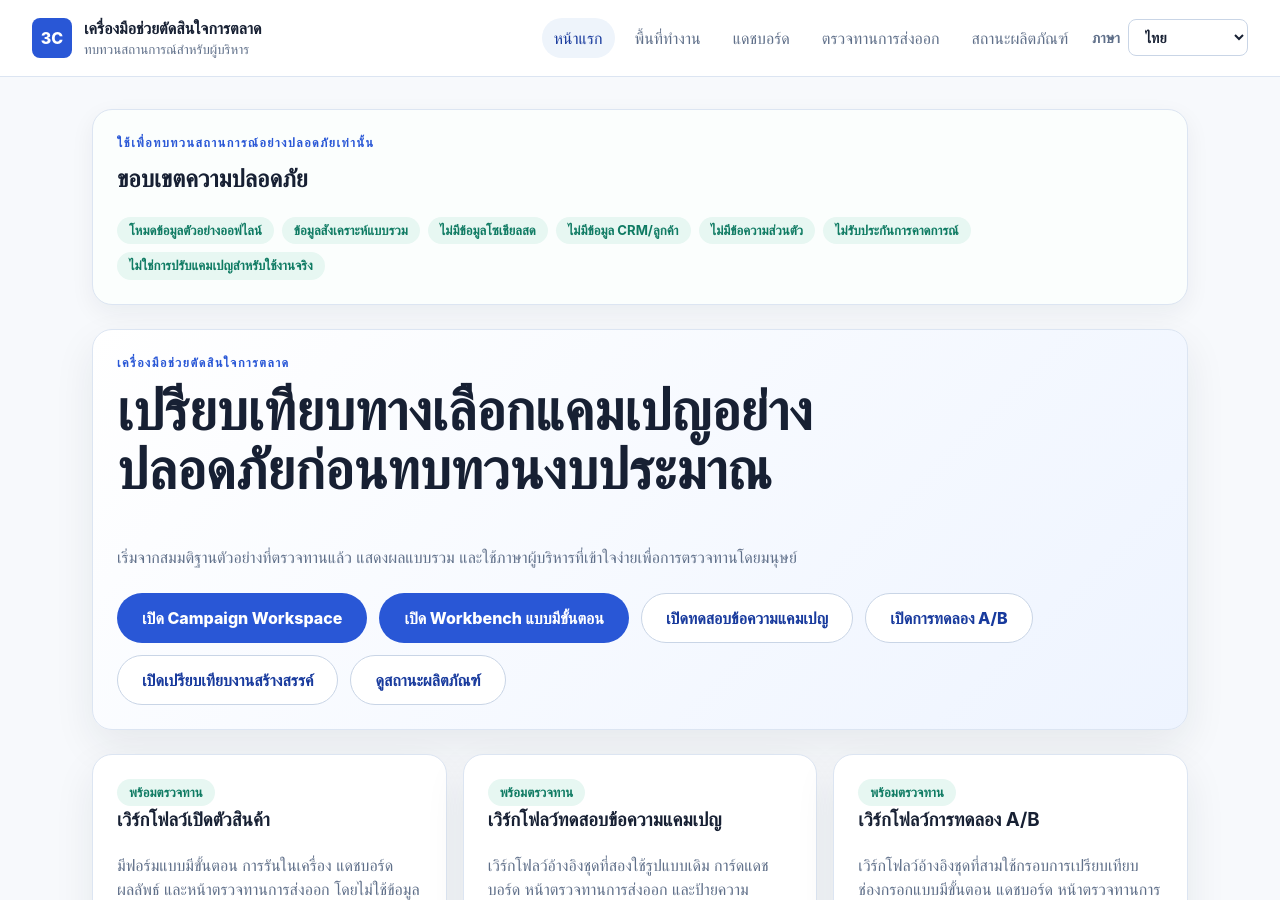
M18 Thai-first internationalization › switches to English at runtime and keeps every safety label visible
Select "English" in the dropdown labelled "ภาษา" at (1188, 38), box [1128,20,1248,56]
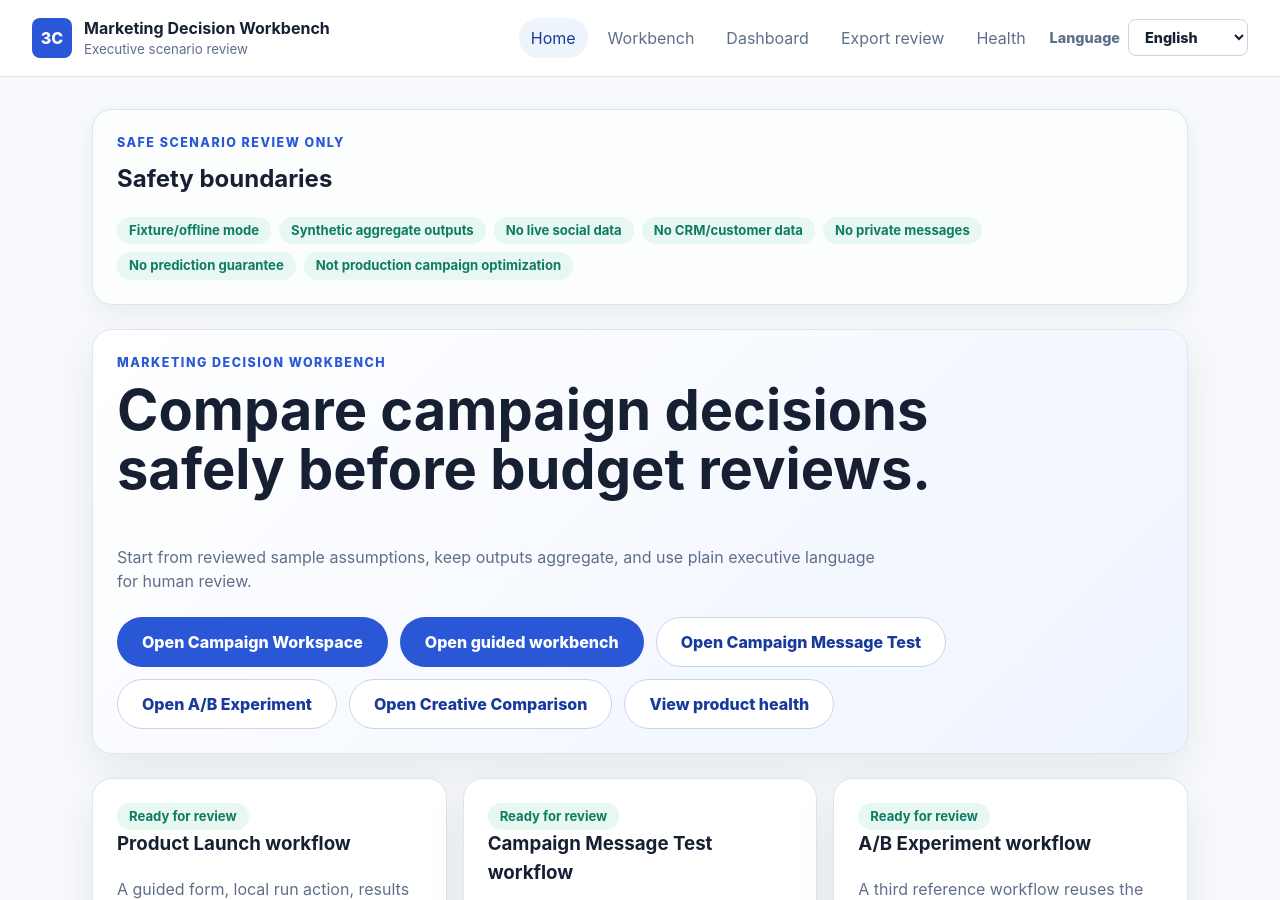
Expected: the heading "Compare campaign decisions safely before budget reviews." is shown, [117,381,967,498]
Expected: the element "Safety boundaries" shows "Fixture/offline mode", [129,222,259,238]
Expected: the element "Safety boundaries" shows "Synthetic aggregate outputs", [291,222,474,238]
